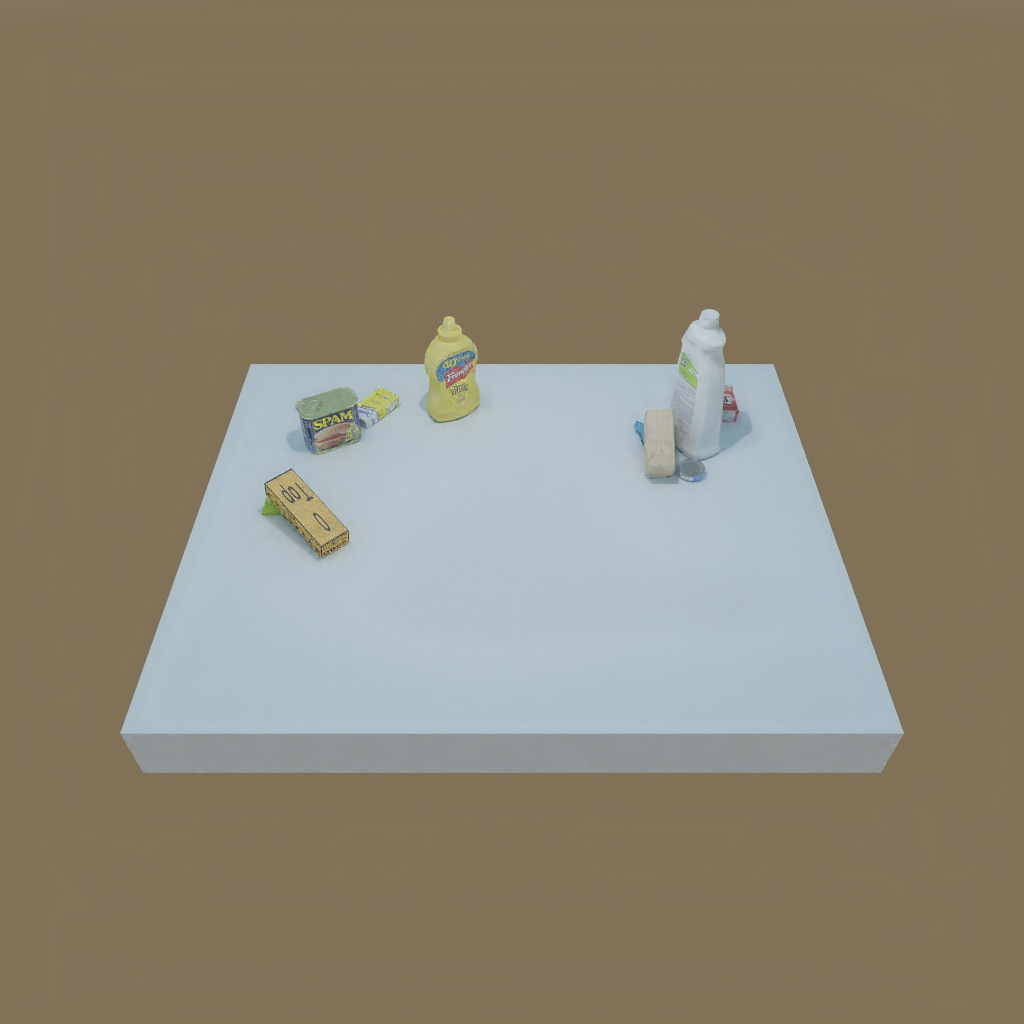gelatin_box: (716, 384, 745, 425)
jenga: (264, 466, 350, 554)
mustard_bottle: (422, 313, 487, 424)
potted_meat_can: (297, 391, 362, 453)
wood_block: (639, 404, 679, 485)
